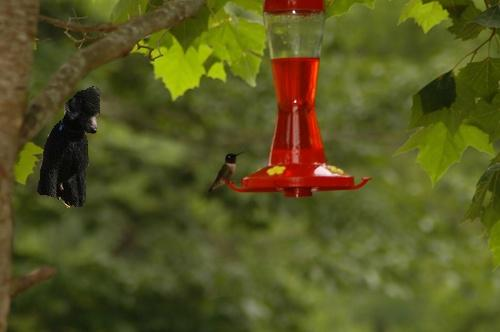tampered: (37, 87, 100, 208)
